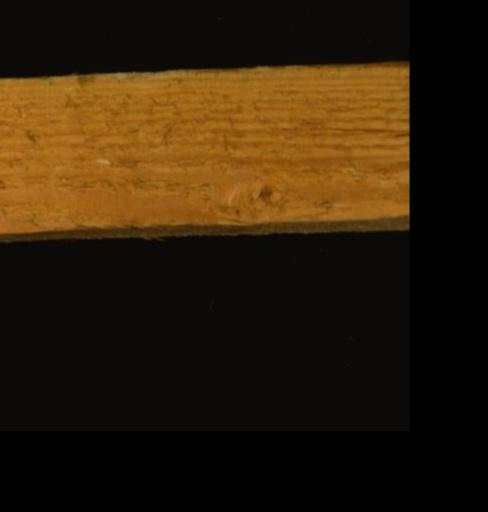small_knot: (247, 177, 293, 213)
